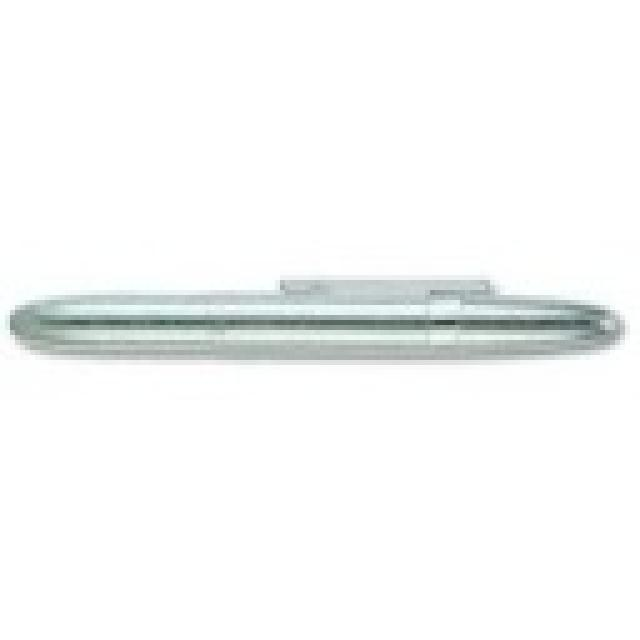pen: (3, 271, 635, 367)
